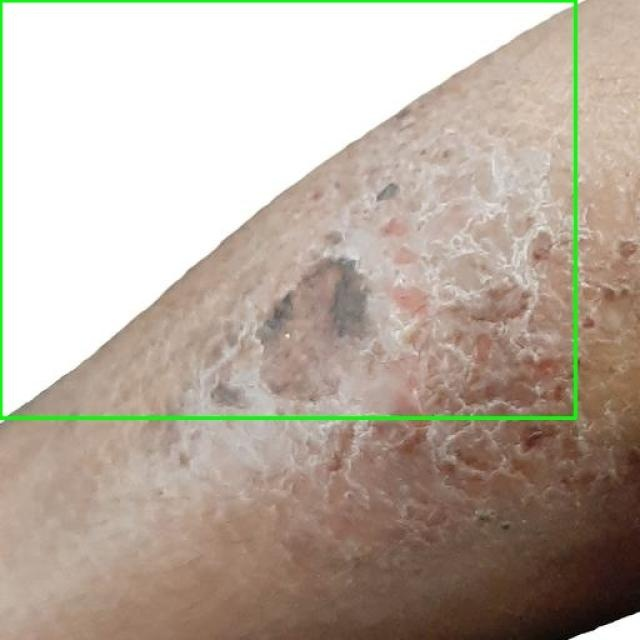Eczema: (0, 0, 575, 418)
